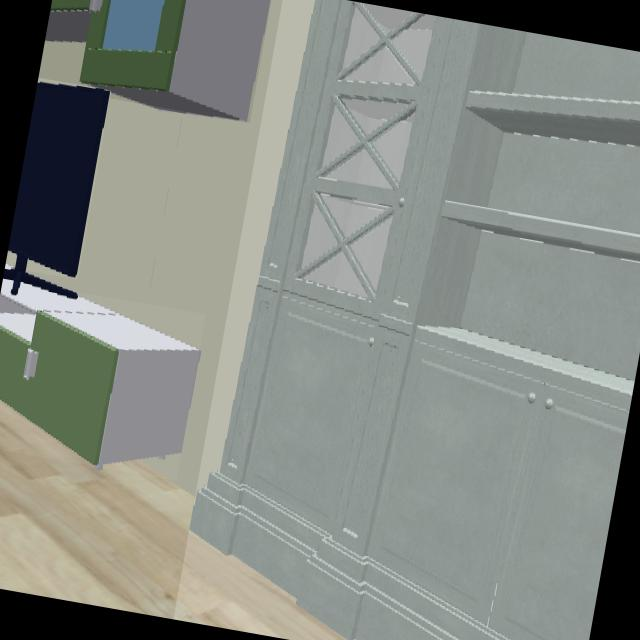bookshelf: (189, 0, 640, 640)
cabinet: (0, 279, 198, 468), (44, 0, 270, 121)
monitor: (7, 82, 110, 277)
